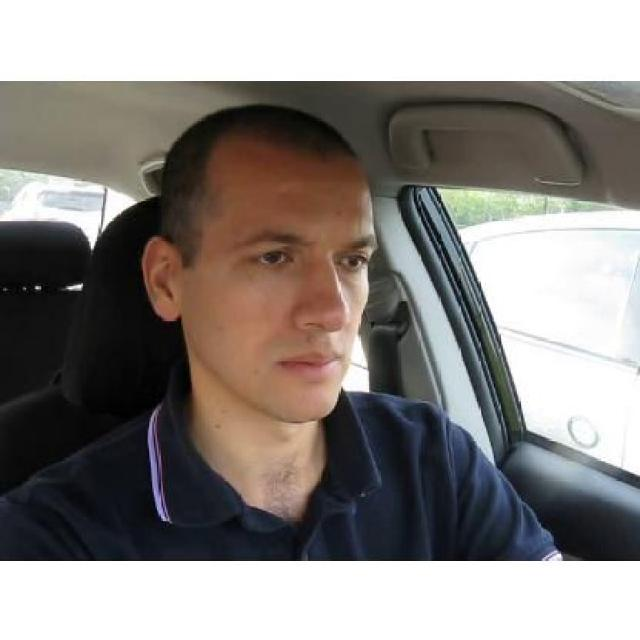attentif: (142, 102, 378, 421)
